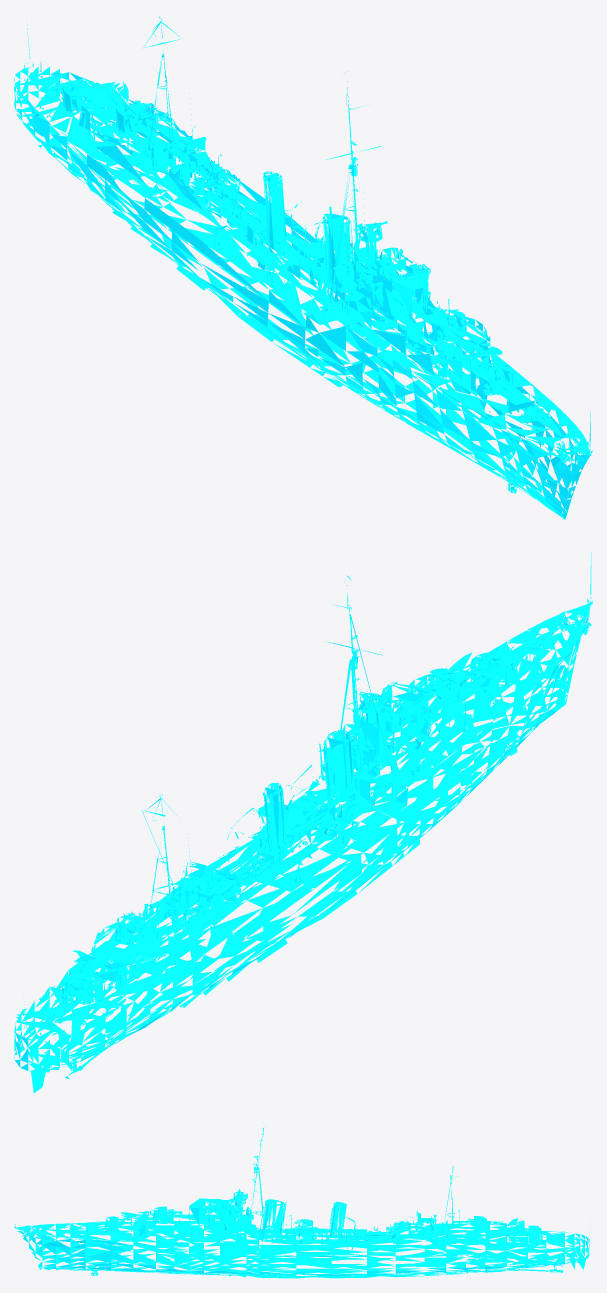
File: PBSD598.glb
The picture shows the model from 3 angles, top to bottom: view 1: azimuth 30°, elevation 25°; view 2: azimuth 150°, elevation 25°; view 3: azimuth 270°, elevation 25°; orthographic projection. The views are drawn at different scales.
Parts seen in each view (by area): view 1: hull, turret; view 2: hull, turret; view 3: hull, turret.
Boxes of the visible parts, box(x1,y1,x2,y2) form: hull: box(14, 14, 592, 519); turret: box(54, 75, 520, 395); hull: box(14, 552, 592, 1093); turret: box(54, 646, 521, 1004); hull: box(14, 1122, 589, 1278); turret: box(89, 1206, 557, 1243).
Bounding box in the file's own units: 0.7486 × 2.25 × 7.71.
